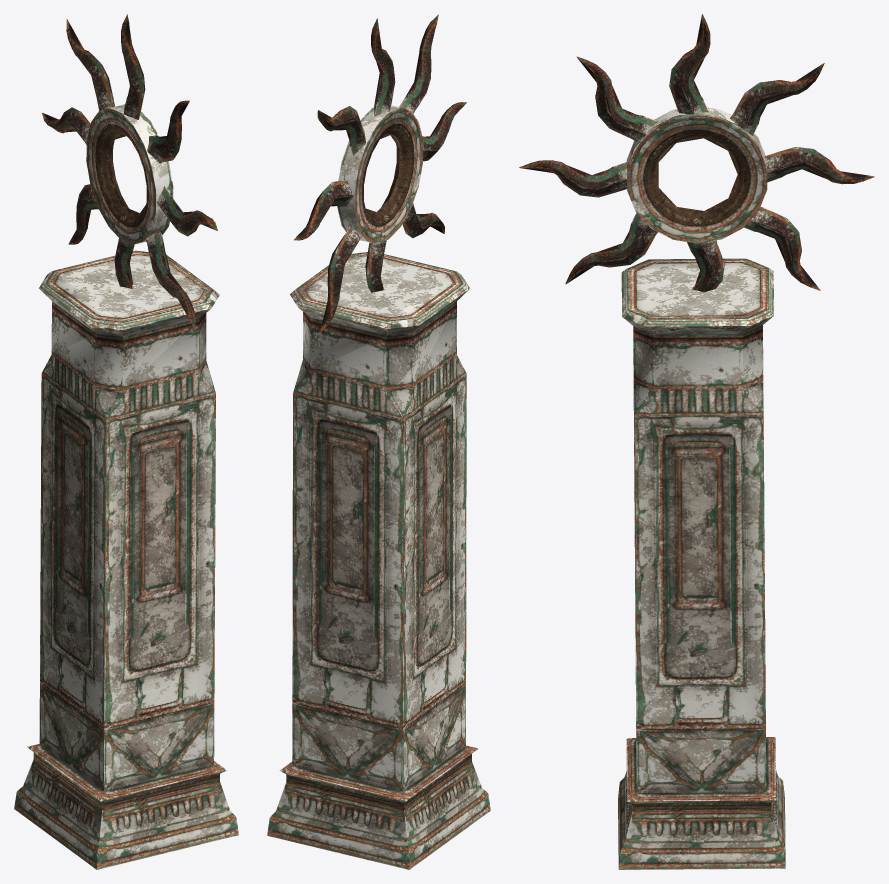
The model's file is sunpillar.fbx.
3 views of the same model, side by side, from view 1: azimuth 30°, elevation 25°; view 2: azimuth 150°, elevation 25°; view 3: azimuth 270°, elevation 25° (orthographic).
Visible parts, largest first — view 1: mdl_env_propSunPillarLOD0; view 2: mdl_env_propSunPillarLOD0; view 3: mdl_env_propSunPillarLOD0.
Part boxes in pixels (x1,y1,x2,y2): mdl_env_propSunPillarLOD0: (14, 14, 238, 869); mdl_env_propSunPillarLOD0: (267, 14, 490, 869); mdl_env_propSunPillarLOD0: (519, 14, 874, 869).
Bounding box in the file's own units: 0.8555 × 4.62 × 1.82.
